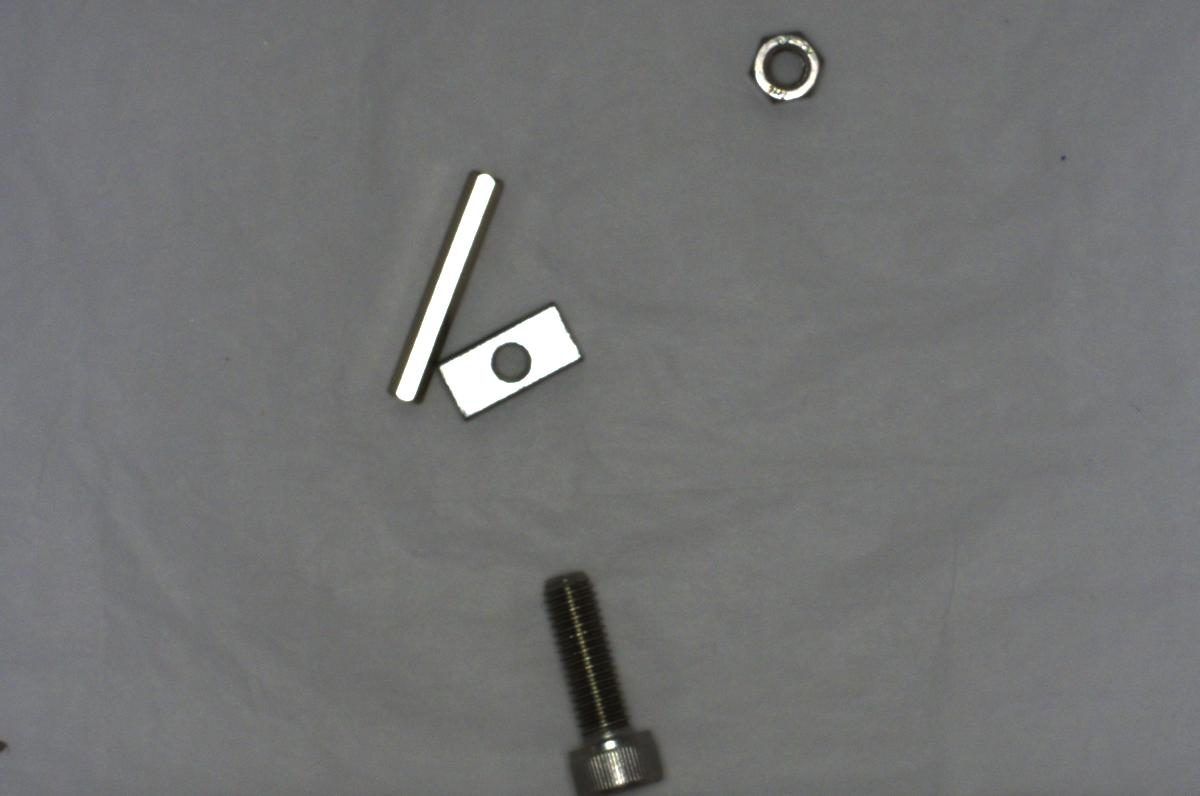Double hexagonal column: (395, 161, 501, 420)
Hexagon nut: (739, 25, 828, 107)
Hexagon screw: (541, 562, 670, 795)
Rectangular nut: (445, 294, 587, 414)
